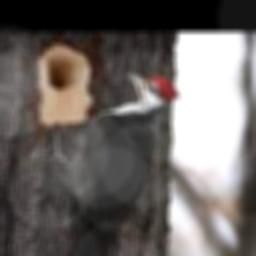Woodpecker: (43, 71, 179, 256)
